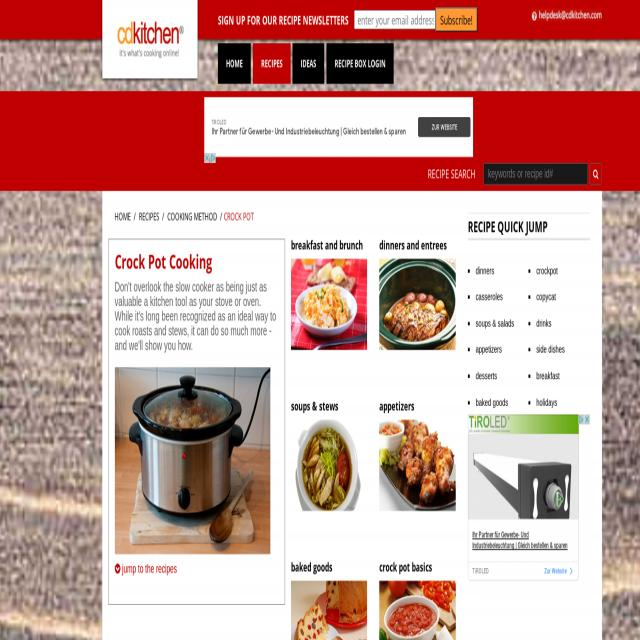button: (114, 368, 269, 555), (291, 419, 367, 512), (379, 419, 455, 512), (291, 258, 367, 350), (379, 258, 455, 350), (379, 580, 456, 640), (291, 580, 367, 640), (110, 20, 190, 58), (326, 43, 394, 84), (253, 43, 291, 84), (218, 43, 250, 84), (292, 43, 324, 84), (418, 116, 471, 138), (436, 8, 478, 33), (531, 9, 602, 21), (590, 163, 602, 185), (210, 152, 216, 164), (584, 414, 590, 424), (204, 153, 209, 163), (579, 414, 584, 424)
field: (484, 163, 588, 185), (354, 10, 436, 28)
